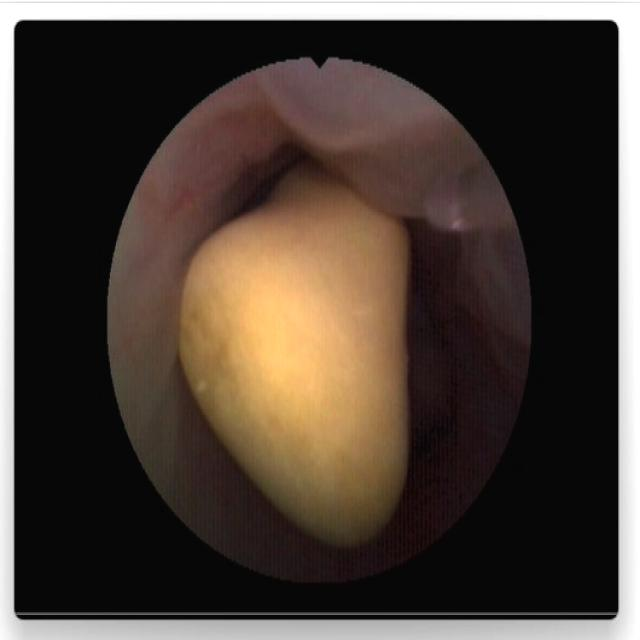stone: (179, 163, 411, 543)
tissue: (112, 74, 364, 571), (278, 62, 515, 538)
